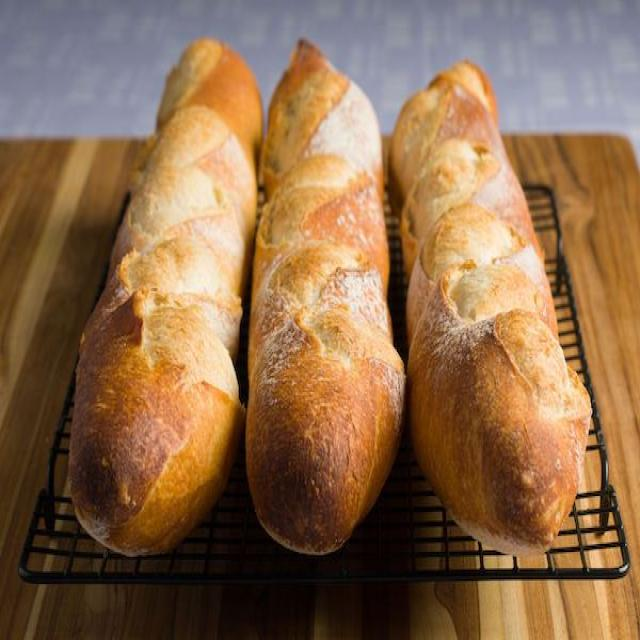Baguette: (65, 38, 266, 560), (387, 62, 591, 558), (238, 38, 407, 562)
